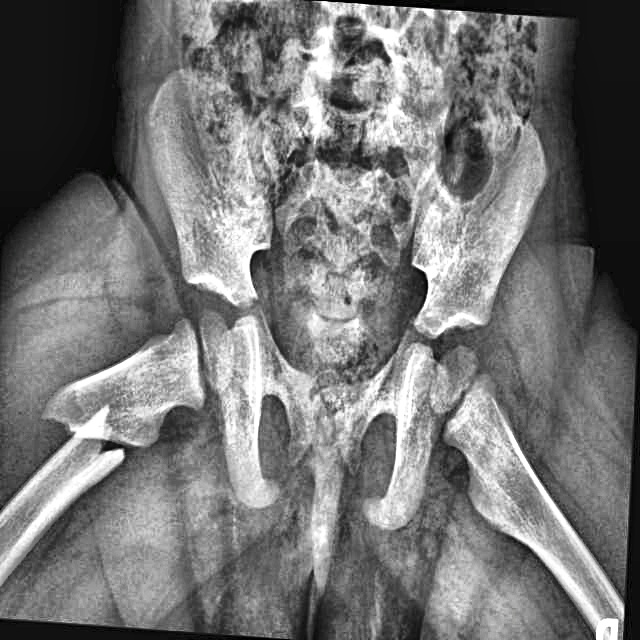Transverse: (27, 363, 146, 493)
